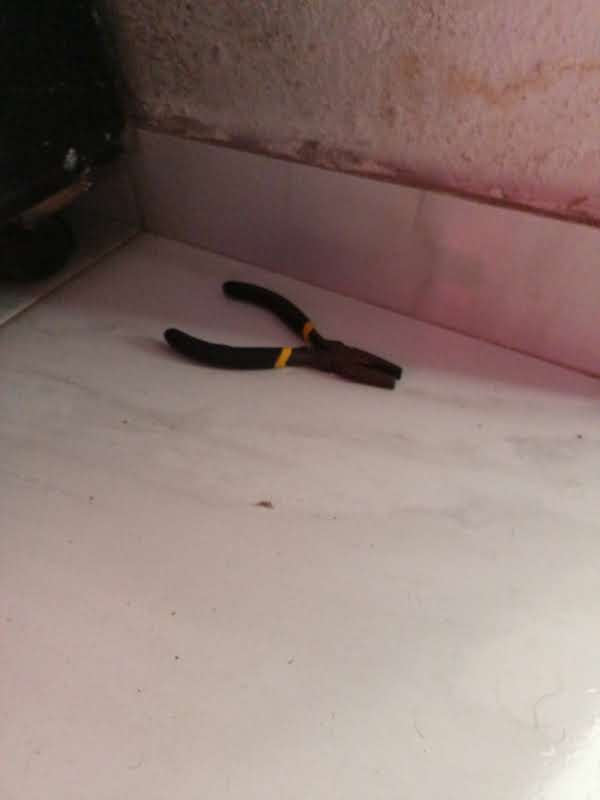Pinzas: (164, 281, 401, 388)
